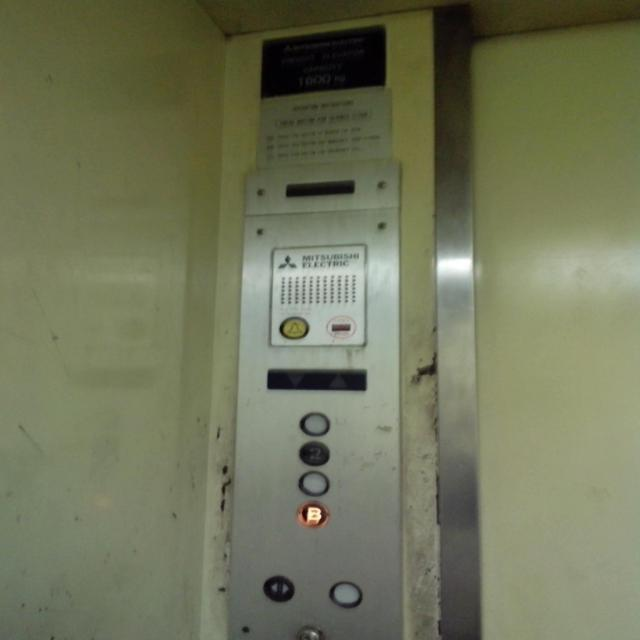2: (297, 439, 331, 466)
B: (297, 500, 329, 528)
alarm: (278, 315, 311, 339)
empty: (327, 581, 363, 608), (297, 411, 331, 436), (297, 470, 329, 496)
led: (265, 367, 367, 391), (283, 178, 358, 198)
open: (262, 574, 294, 603)
unknown: (324, 314, 357, 339)
